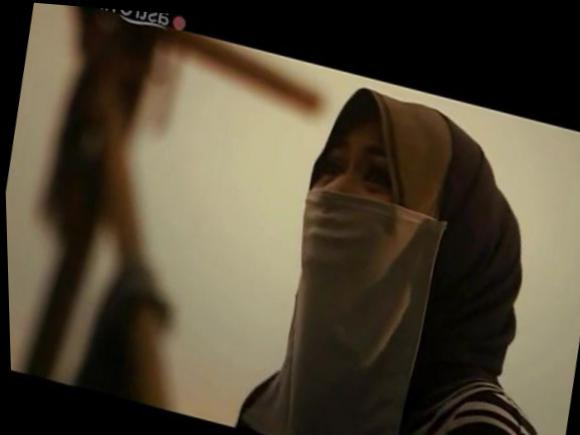WRONG: (291, 121, 424, 286)
